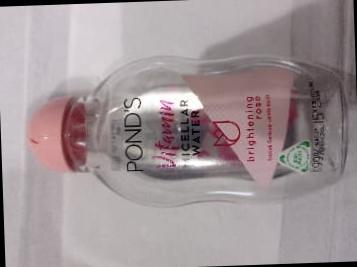Plastik: (28, 55, 346, 206)
